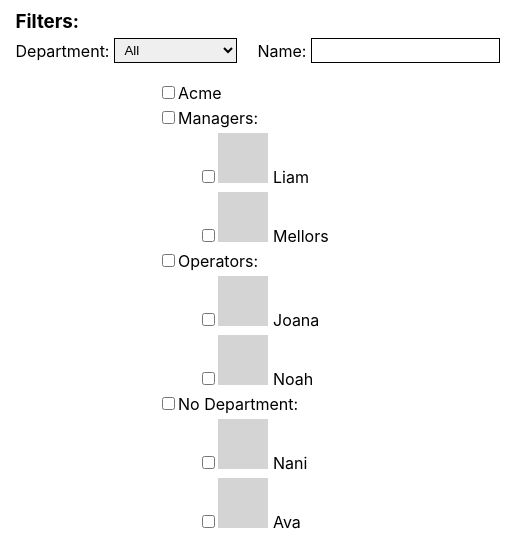
Test: Selecting items › All departments are selected after clicking the company name checkbox
The image size is (517, 546).
Click the checkbox labelled "Acme". click: x=168, y=92
box: [162, 86, 175, 99]
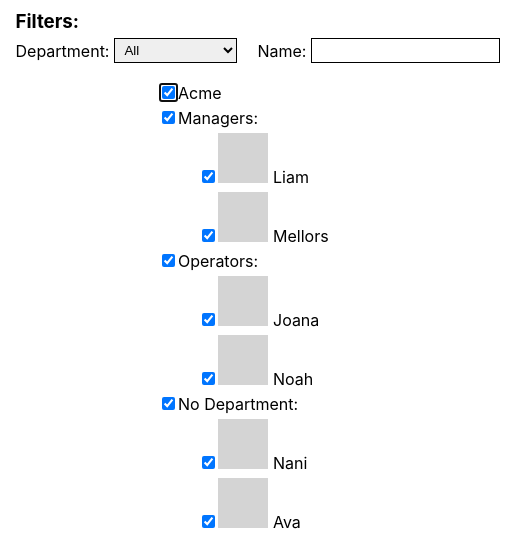
Check: the checkbox labelled "Managers:" is checked, box [162, 111, 175, 124]
Check: the checkbox labelled "Operators:" is checked, box [162, 254, 175, 267]
Check: the checkbox labelled "No Department:" is checked, box [162, 397, 175, 410]
